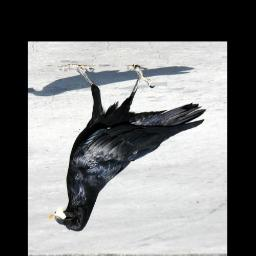Crow: (48, 59, 209, 233)
